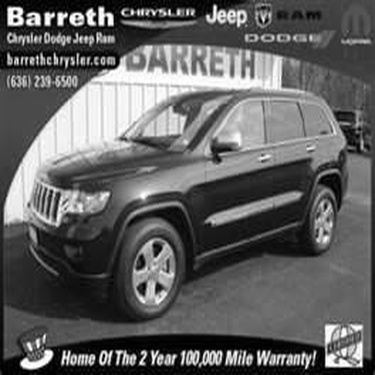car: (19, 82, 352, 320), (330, 100, 372, 156)
